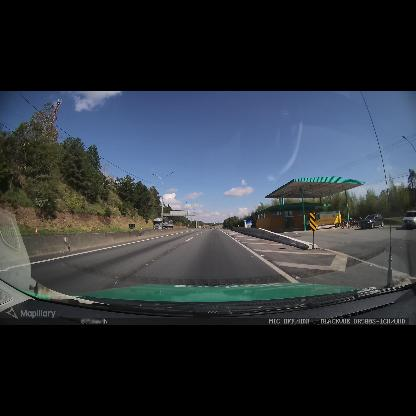O-MP: (309, 212, 316, 231), (238, 225, 239, 227)
